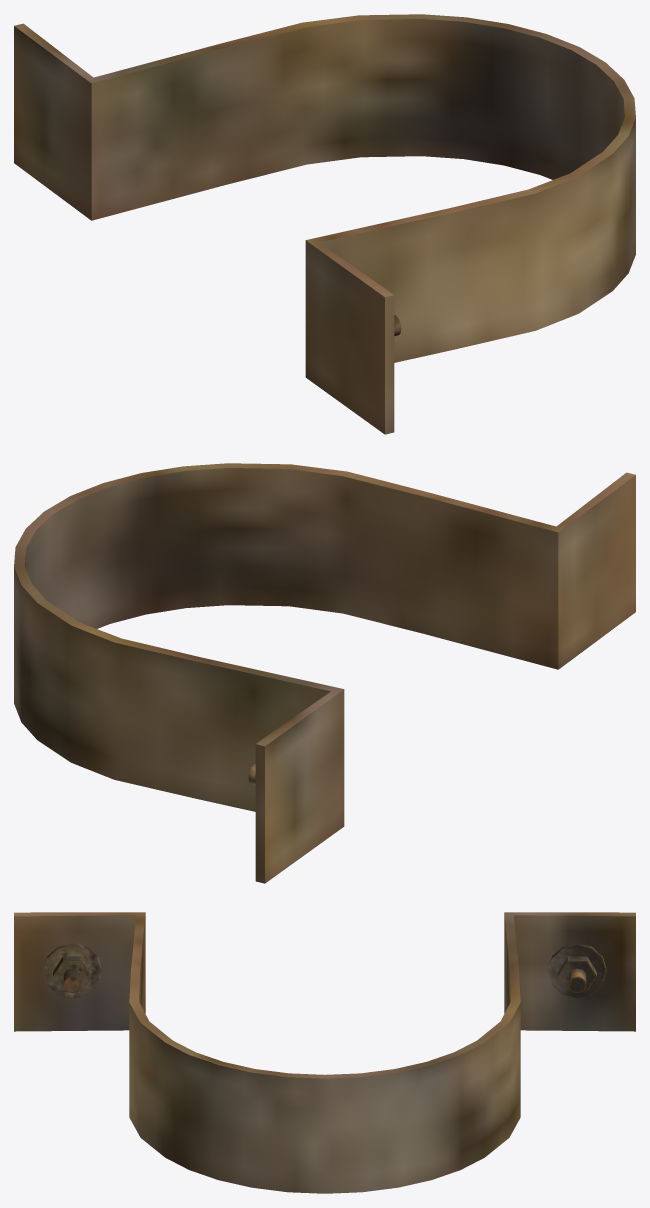
Rendered from pipe-bracket.glb.
3 views of the same model, one above another, from view 1: azimuth 30°, elevation 25°; view 2: azimuth 150°, elevation 25°; view 3: azimuth 270°, elevation 25° (orthographic). The views are drawn at different scales.
Parts seen in each view (by area): view 1: pipe-bracket; view 2: pipe-bracket; view 3: pipe-bracket.
Part boxes in pixels (x1=…): pipe-bracket: x1=14, y1=14, x2=635, y2=434; pipe-bracket: x1=14, y1=463, x2=635, y2=883; pipe-bracket: x1=14, y1=912, x2=635, y2=1193.
Size of the model in its own units: 0.2753 by 0.0887 by 0.4345.
1 material, 1 textured.
